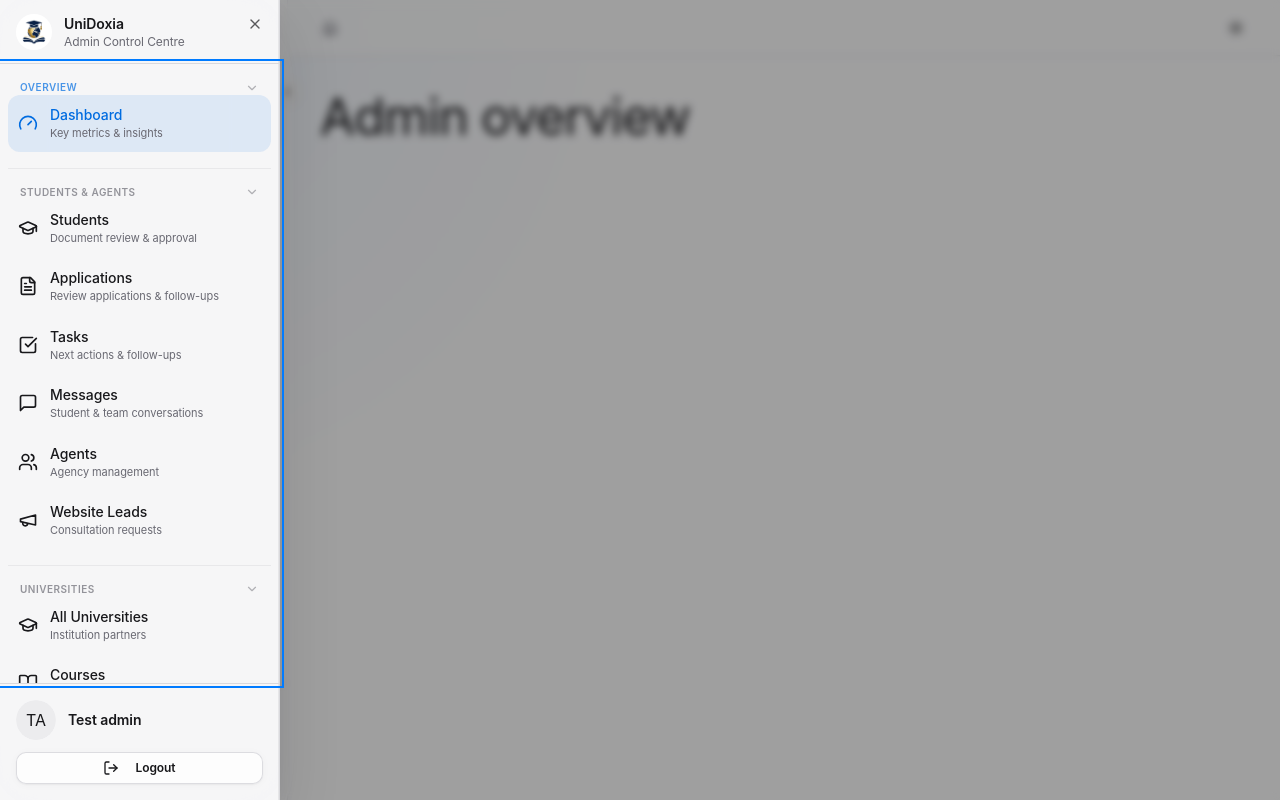
Test: admin applications navigation › includes applications in the mobile navigation menu
The width and height of the screenshot is (1280, 800).
Earlier steps of the test are not shown.
Click the link to "/admin/applications": (118, 286) [18,269,219,303]
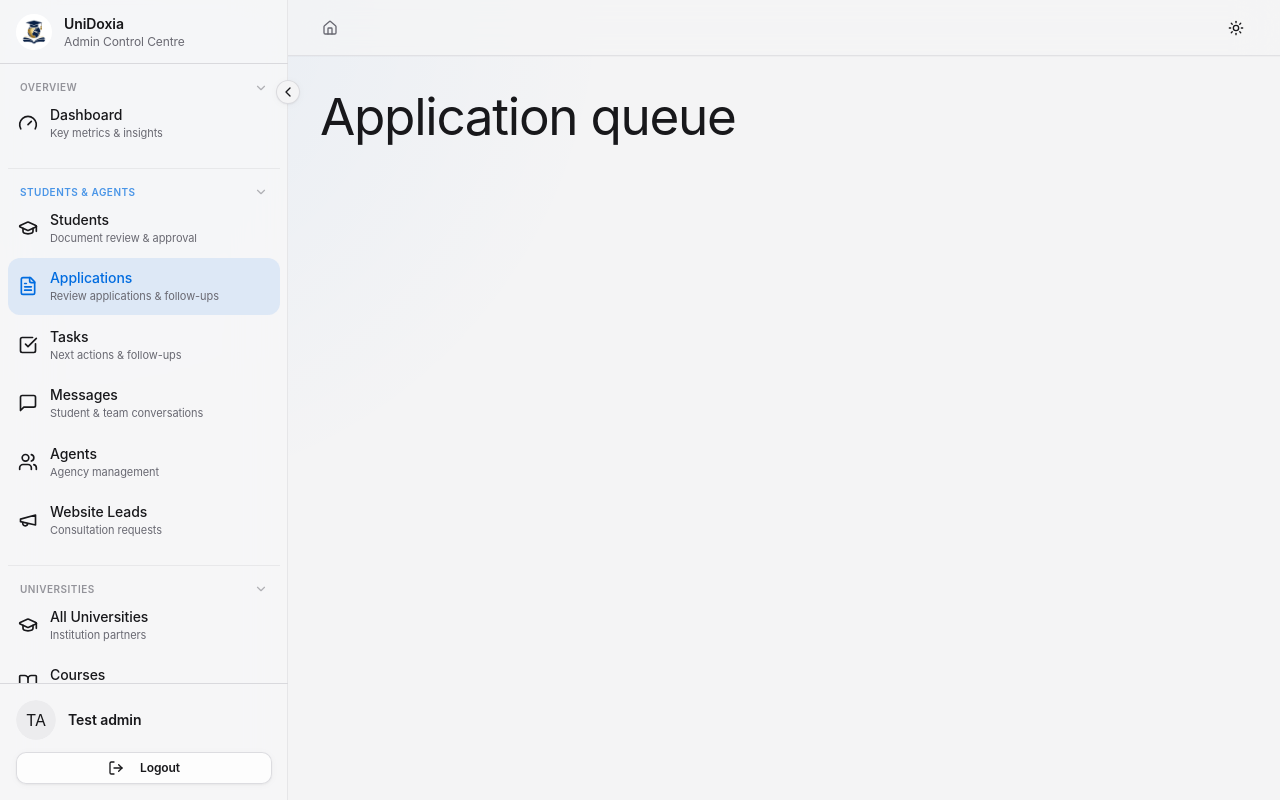
Check: the heading "Application queue" is shown, box [320,85,736,147]
Check: the dialog is gone
